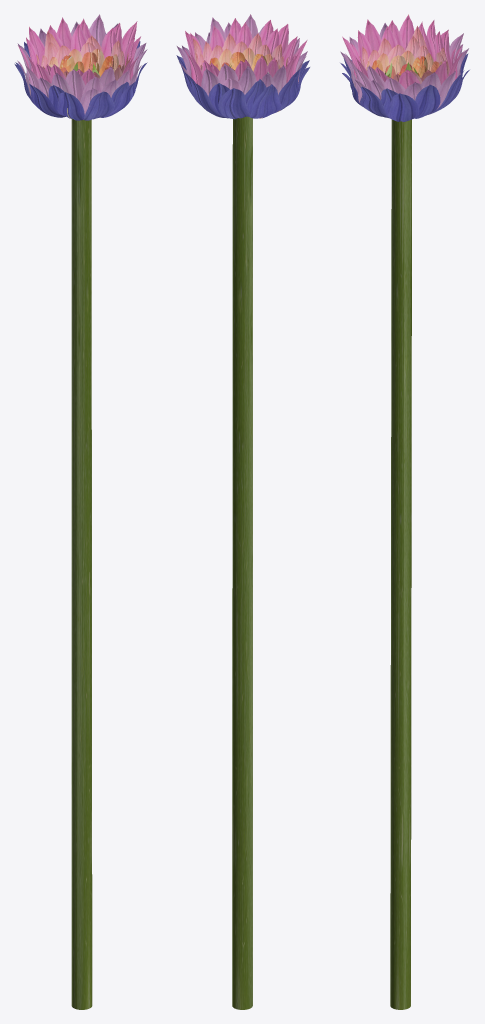
Rendered from flor_05.fbx.
3 renders of one model, left to right at view 1: azimuth 30°, elevation 25°; view 2: azimuth 210°, elevation 25°; view 3: azimuth 330°, elevation 25°, orthographic.
Parts seen in each view (by area): view 1: Plane.068; view 2: Plane.068; view 3: Plane.068.
Boxes of the visible parts, x1,y1,x2,y2 form: Plane.068: (14, 14, 147, 1009); Plane.068: (176, 14, 309, 1009); Plane.068: (340, 14, 469, 1009).
Size of the model in its own units: 65.32 by 520 by 61.18.
2 materials, 2 textured.
